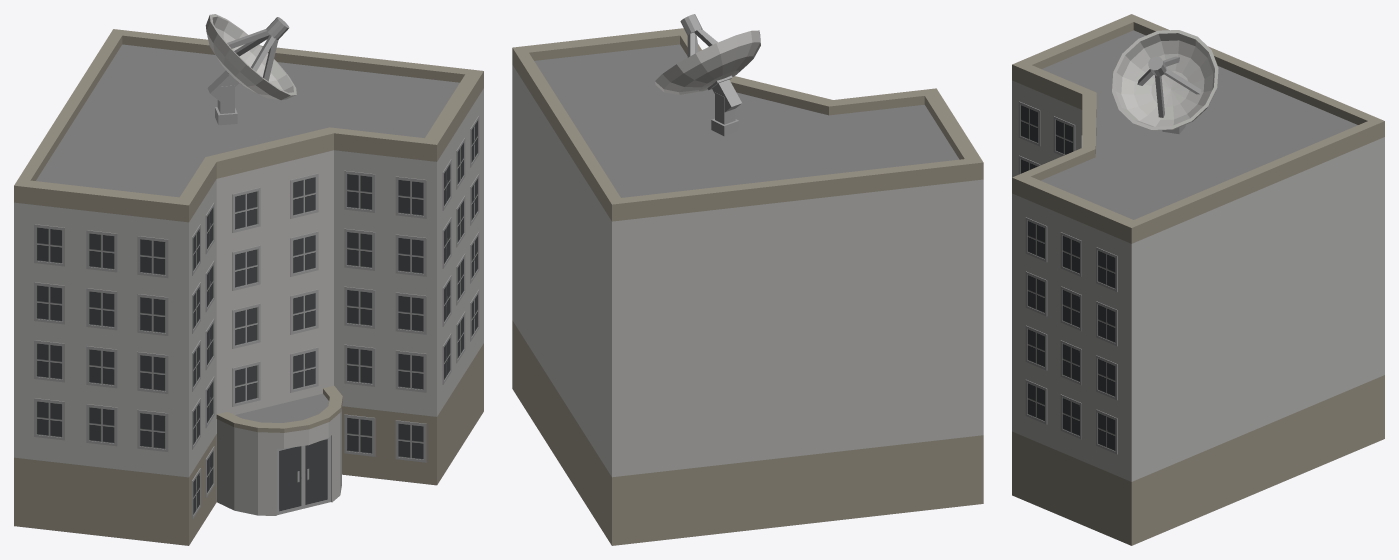
The model's file is spb-news.glb.
The picture shows the model from 3 angles, left to right: view 1: azimuth 30°, elevation 25°; view 2: azimuth 150°, elevation 25°; view 3: azimuth 270°, elevation 25°; orthographic projection. The views are drawn at different scales.
Parts seen in each view (by area): view 1: SPB_News; view 2: SPB_News; view 3: SPB_News.
Part boxes in pixels (bbox=[...]): SPB_News: bbox=[14, 14, 483, 545]; SPB_News: bbox=[512, 14, 983, 545]; SPB_News: bbox=[1012, 14, 1384, 545].
Bounding box in the file's own units: 25.46 × 22.35 × 18.74.
1 material, 1 textured.
